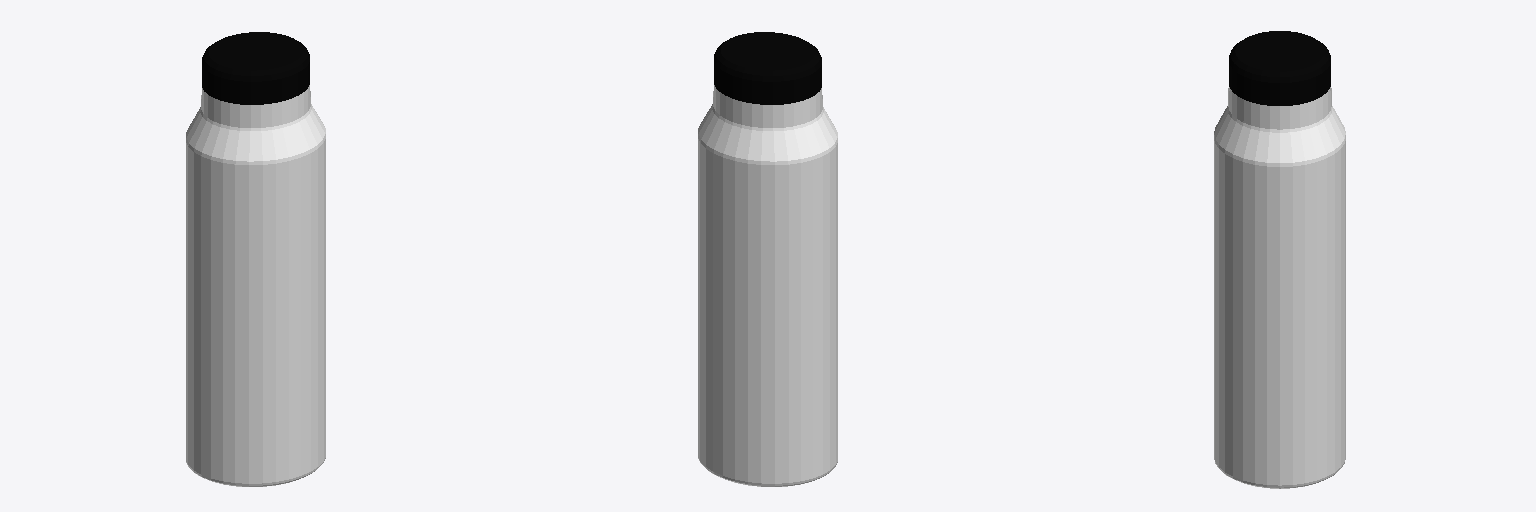
Rendered from anorganik4.obj.
3 renders of one model, left to right at view 1: azimuth 30°, elevation 25°; view 2: azimuth 150°, elevation 25°; view 3: azimuth 270°, elevation 25°, orthographic.
Parts seen in each view (by area): view 1: Cylinder; view 2: Cylinder; view 3: Cylinder.
Part boxes in pixels (bbox=[...]): Cylinder: bbox=[186, 32, 325, 486]; Cylinder: bbox=[698, 32, 837, 486]; Cylinder: bbox=[1214, 31, 1345, 488].
Bounding box in the file's own units: 2.16 × 6.79 × 2.